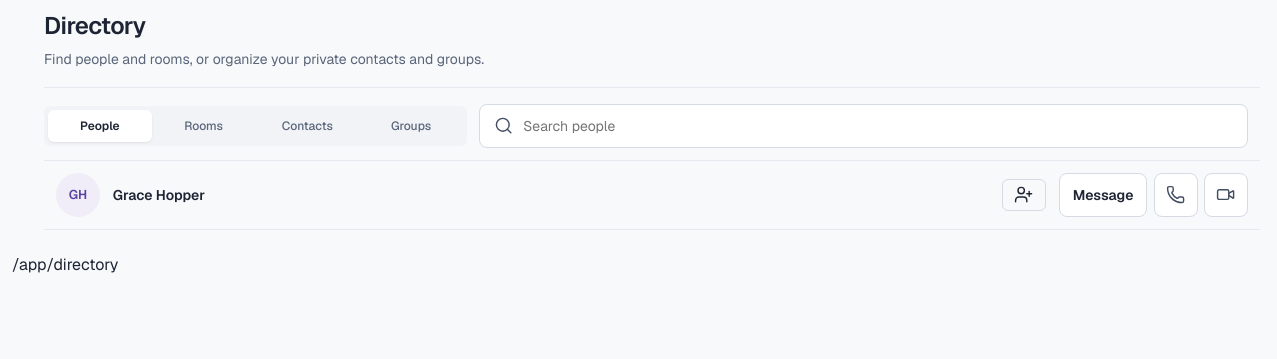
Test: DirectoryPage › joins and opens a discoverable public room in one action
This screenshot has width=1277, height=359.
Expected: the list named "People" is shown, [44,161,1260,230]
Click the button "Rooms" at (204, 126), box [152,110,255,142]
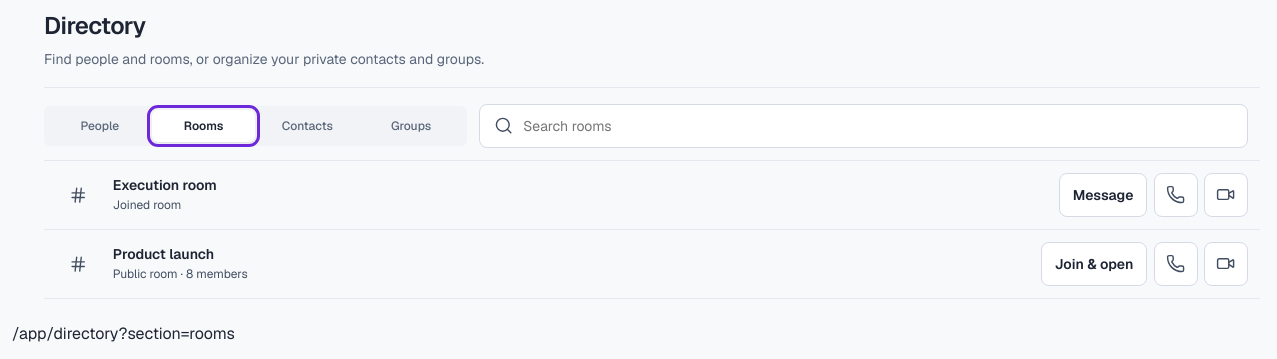
Click the button with aria-label "Join & open Product launch" at (1094, 264), box [1041,242,1147,286]
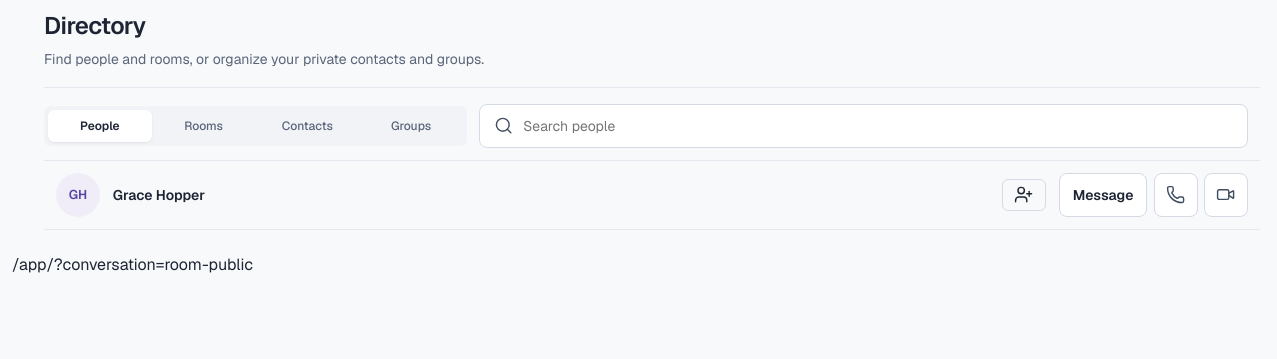
Expected: the text named "location" reads "/app/?conversation=room-public", [12,254,253,275]
